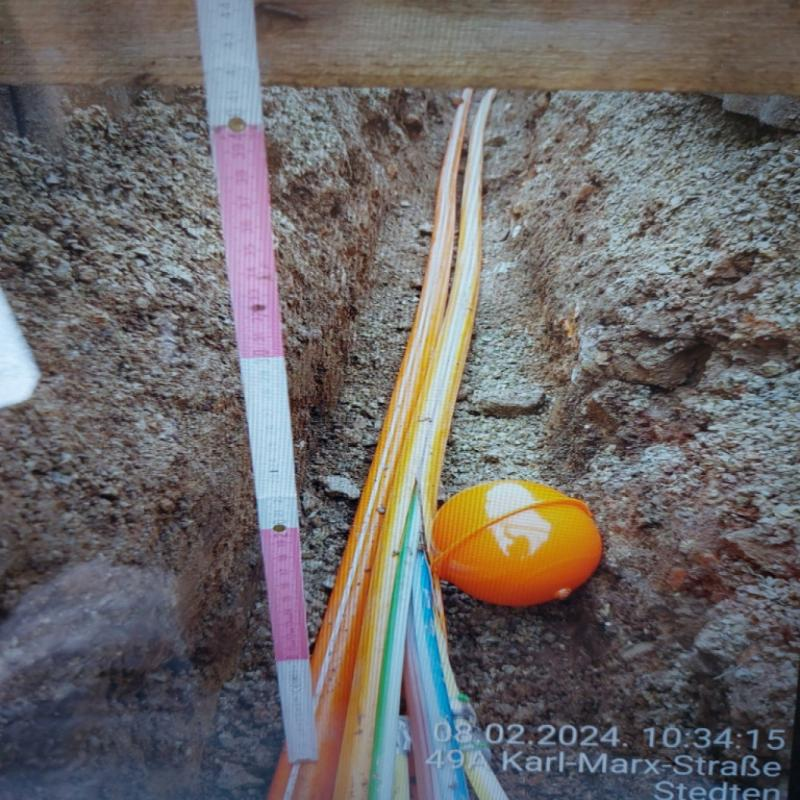Kugelmarker: (434, 480, 594, 603)
Orang-Speednetrohrchen: (271, 92, 505, 800)
